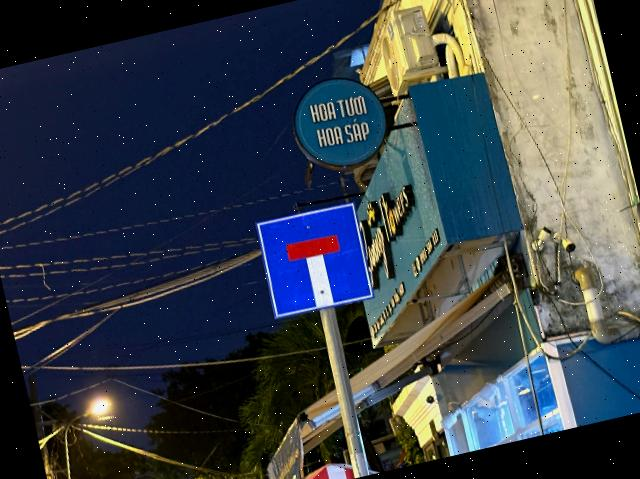duong-cut: (251, 198, 375, 320)
